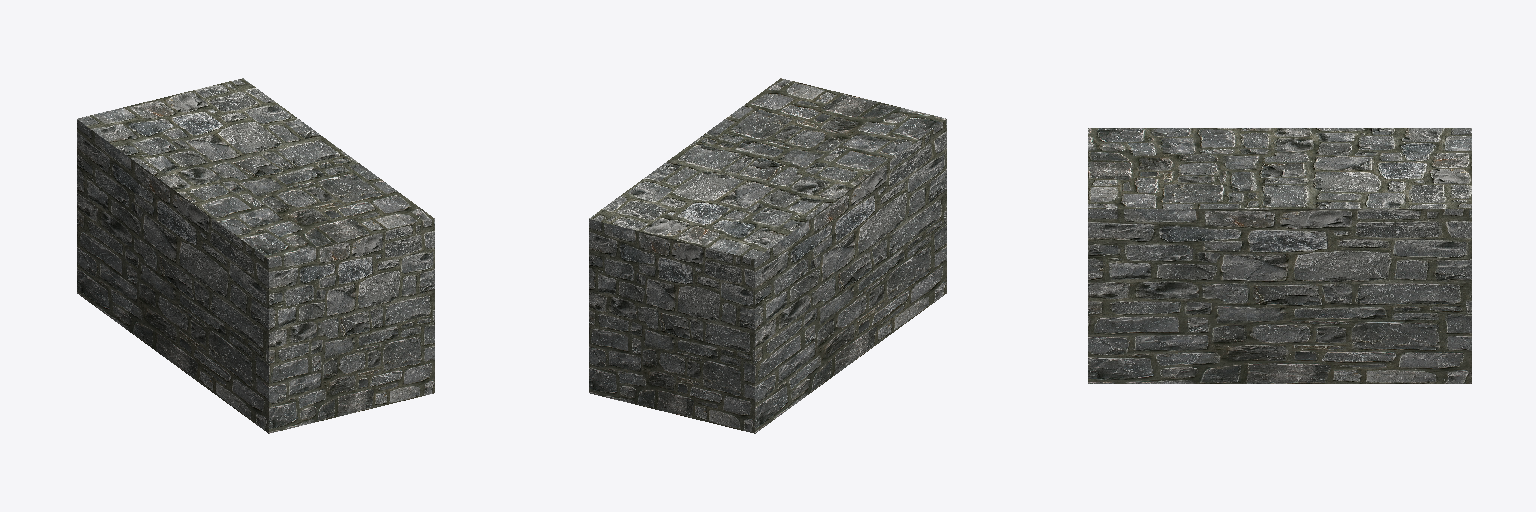
The picture shows the model from 3 angles: view 1: azimuth 30°, elevation 25°; view 2: azimuth 150°, elevation 25°; view 3: azimuth 270°, elevation 25°; orthographic projection.
Visible parts, largest first — view 1: Box001; view 2: Box001; view 3: Box001.
Part boxes in pixels (left/top/right/bottom): Box001: left=77, top=78, right=434, bottom=433; Box001: left=589, top=78, right=946, bottom=433; Box001: left=1088, top=128, right=1471, bottom=383.
Size of the model in its own units: 2 by 2 by 4.
1 materials, 1 textured.